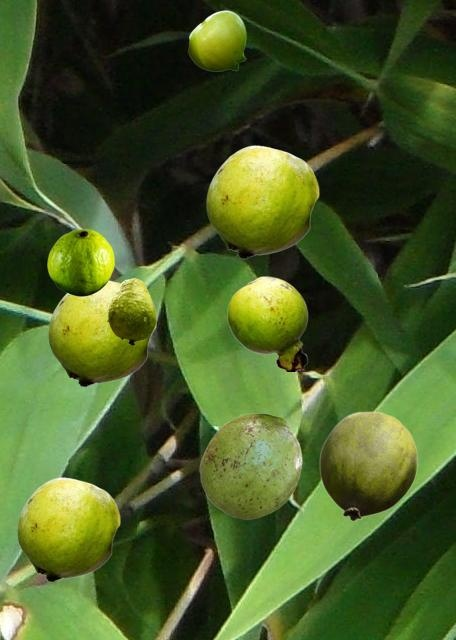guava: (206, 145, 318, 258), (48, 280, 155, 386), (199, 413, 301, 518), (319, 411, 417, 520), (17, 477, 119, 581), (227, 276, 307, 370), (47, 229, 113, 295), (188, 10, 245, 70), (107, 278, 155, 344)
